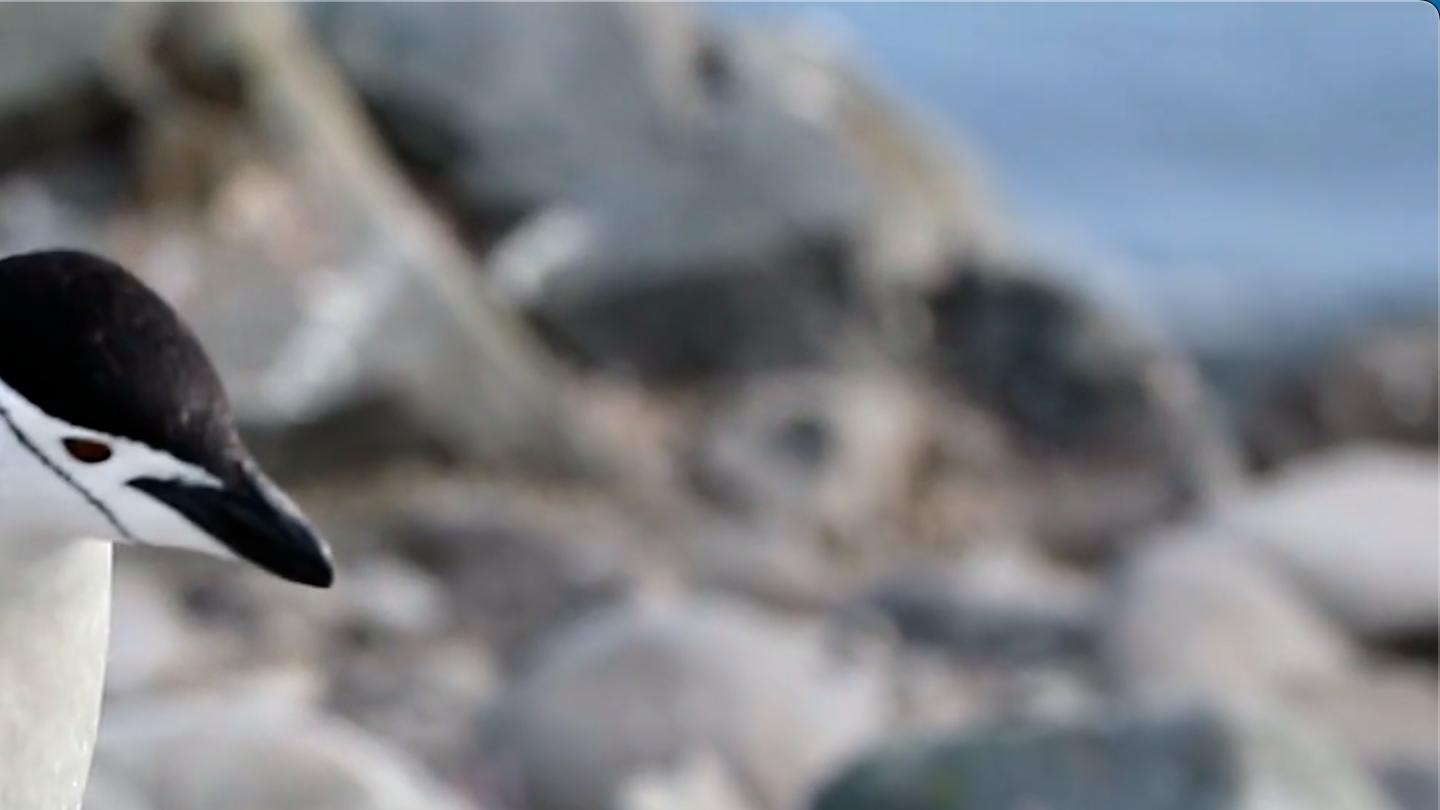Chinstrap Penguin: (0, 220, 345, 810)
